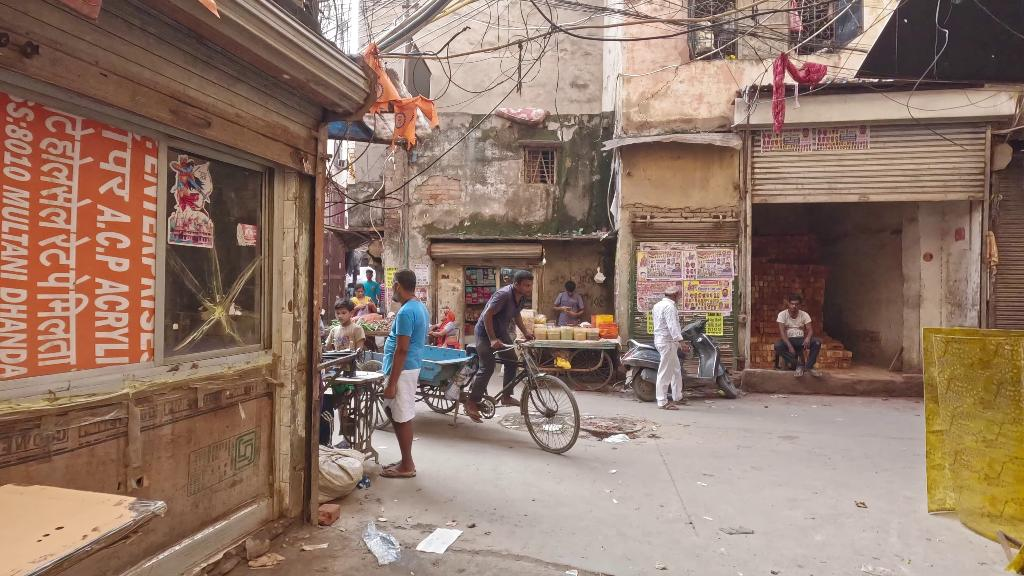garbage: (359, 516, 401, 564), (419, 523, 462, 559), (601, 433, 631, 445), (853, 499, 868, 510)
